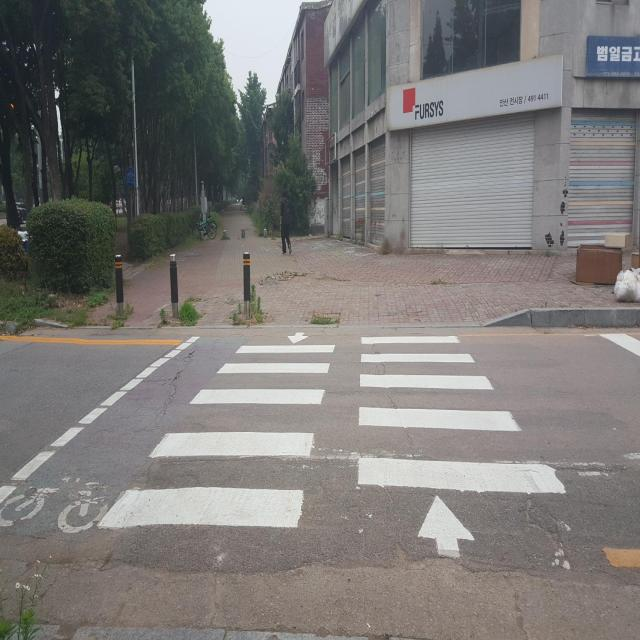횡단보도: (95, 330, 568, 561)
